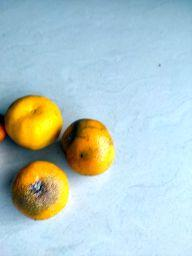orange: (11, 159, 70, 222), (5, 94, 63, 151), (62, 117, 115, 177)
